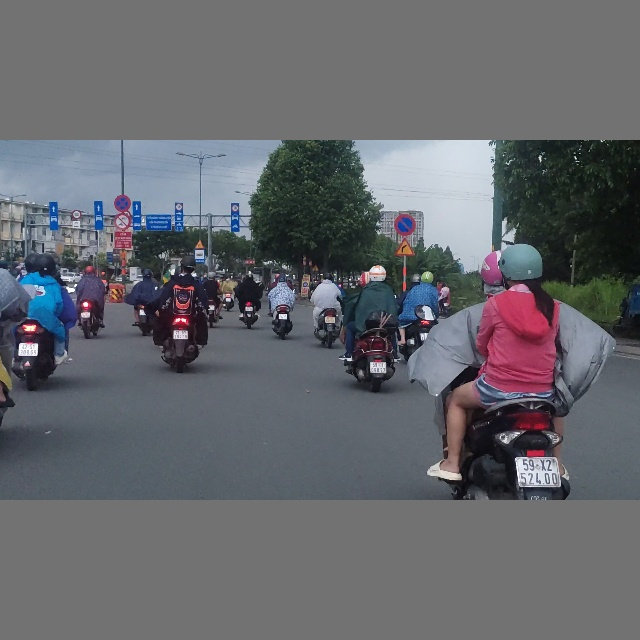I.434a: (194, 249, 205, 263)
P.111: (113, 213, 131, 230)
P.127*50: (231, 205, 239, 212), (175, 204, 182, 210)
P.127*80: (71, 210, 81, 219)
P.130: (114, 194, 131, 212)
P.131a: (394, 213, 416, 236)
W.201b: (394, 237, 416, 257), (194, 239, 205, 249)
